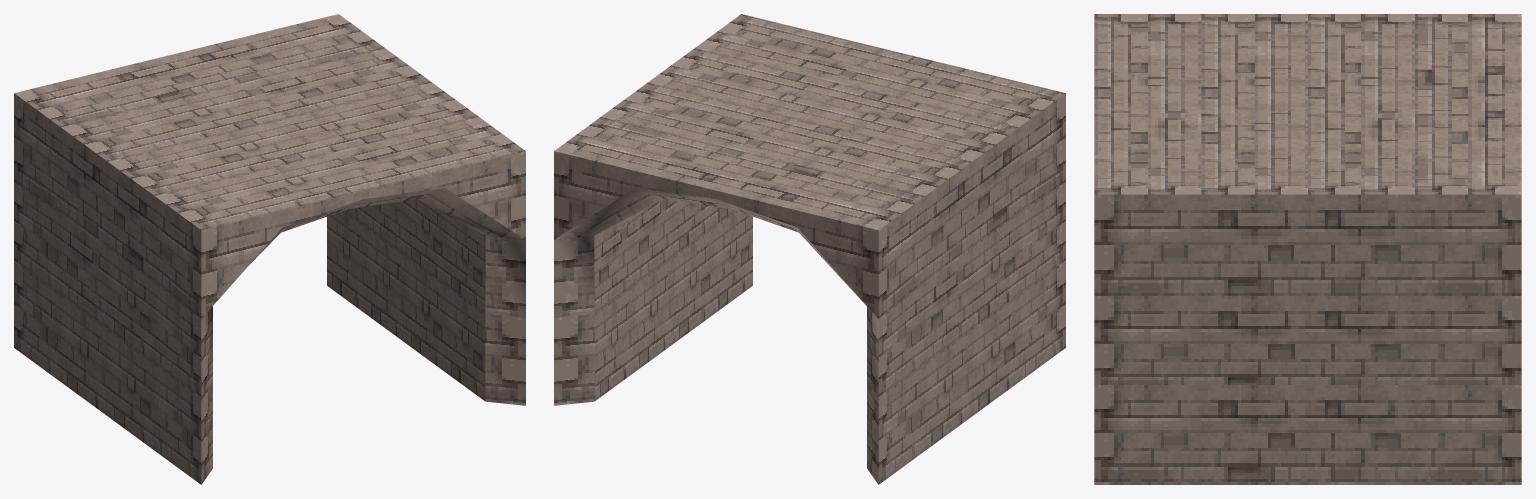
File: stone_archway.glb
The picture shows the model from 3 angles, left to right: view 1: azimuth 30°, elevation 25°; view 2: azimuth 150°, elevation 25°; view 3: azimuth 270°, elevation 25°; orthographic projection. The views are drawn at different scales.
Visible parts, largest first — view 1: stone_archway; view 2: stone_archway; view 3: stone_archway.
Boxes of the visible parts, x1,y1,x2,y2 form: stone_archway: (14, 14, 525, 484); stone_archway: (554, 14, 1065, 484); stone_archway: (1094, 14, 1521, 484).
Size of the model in its own units: 5 by 3.75 by 5.
Materials: 1 (1 with a texture image).
